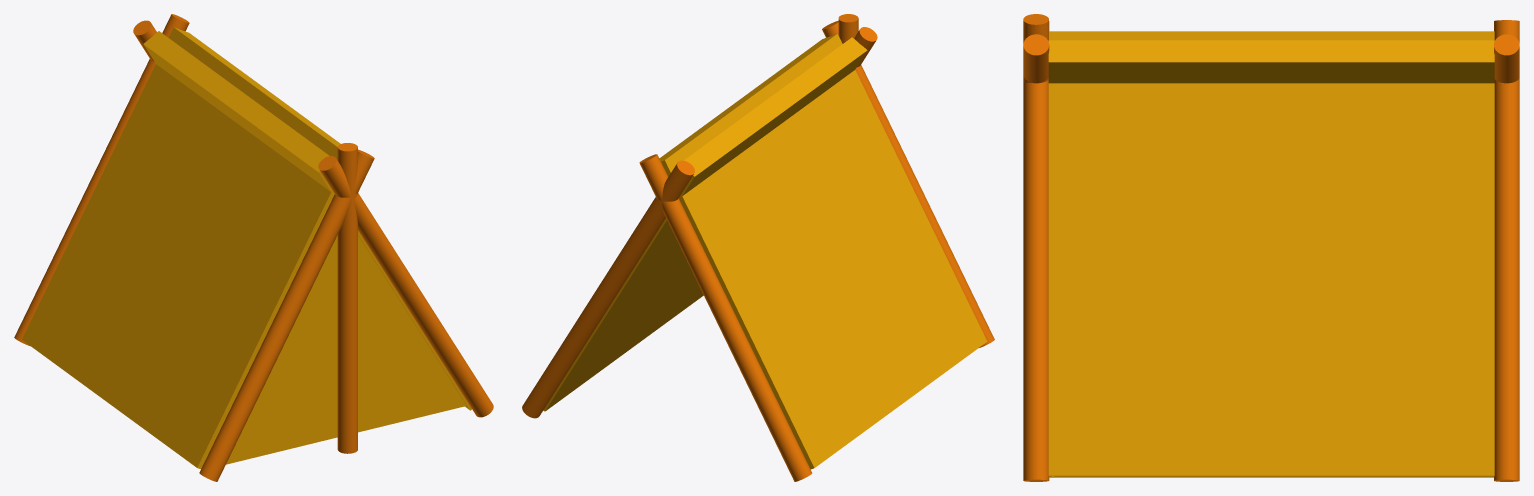
Rendered from TiendaCampana_Anastasia.fbx.
3 renders of one model, left to right at view 1: azimuth 30°, elevation 25°; view 2: azimuth 150°, elevation 25°; view 3: azimuth 270°, elevation 25°, orthographic. The views are drawn at different scales.
Visible parts, largest first — view 1: Cube, Plane, Cylinder, Cylinder.001; view 2: Cube, Cylinder, Cylinder.001; view 3: Cube, Cylinder, Cylinder.001.
Part boxes in pixels (x1,y1,x2,y2): Cube: (22,27,471,469); Plane: (226,235,466,464); Cylinder: (14,14,493,481); Cylinder.001: (337,143,357,453); Cube: (543,33,987,469); Cylinder: (522,20,994,481); Cylinder.001: (838,14,858,43); Cube: (1048,31,1494,477); Cylinder: (1023,20,1519,481); Cylinder.001: (1023,14,1048,83).
Size of the model in its own units: 192 by 190 by 223.
